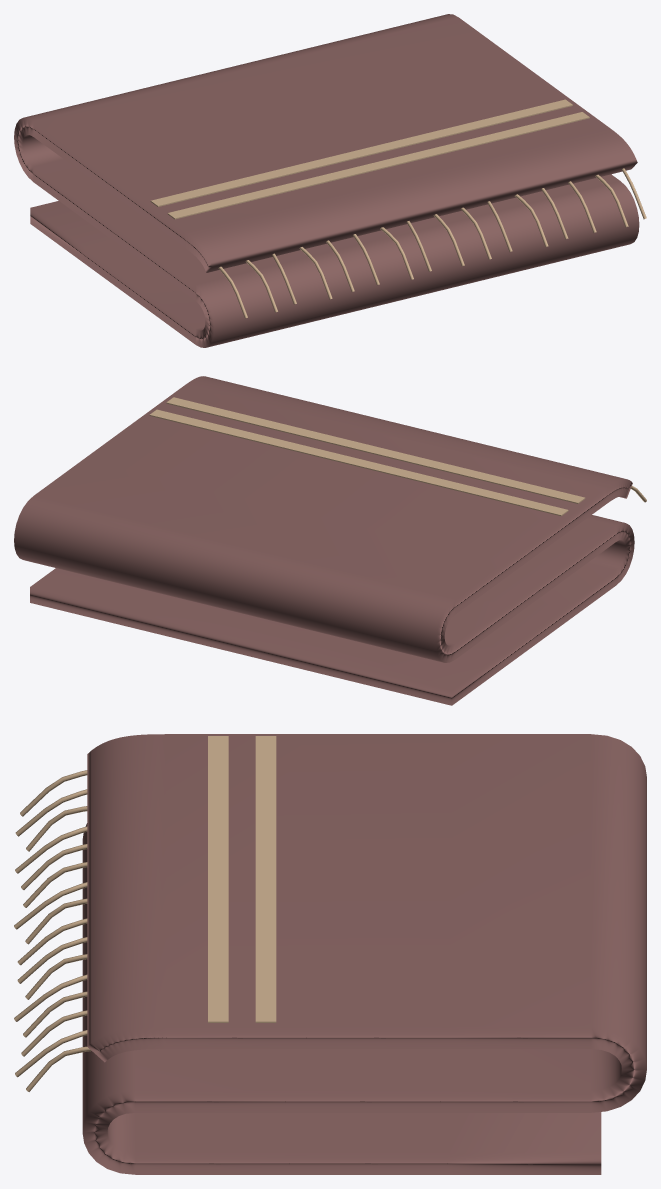
The picture shows the model from 3 angles, top to bottom: view 1: azimuth 30°, elevation 25°; view 2: azimuth 150°, elevation 25°; view 3: azimuth 270°, elevation 25°; orthographic projection. The views are drawn at different scales.
Parts seen in each view (by area): view 1: throw-folded-ribbon, throw-woven-stripes, throw-fringe; view 2: throw-folded-ribbon, throw-woven-stripes; view 3: throw-folded-ribbon, throw-woven-stripes, throw-fringe.
Part boxes in pixels (x1,y1,x2,y2): throw-folded-ribbon: (14, 14, 639, 347); throw-woven-stripes: (150, 99, 589, 219); throw-fringe: (218, 168, 646, 318); throw-folded-ribbon: (14, 376, 634, 705); throw-woven-stripes: (149, 397, 585, 516); throw-folded-ribbon: (82, 734, 646, 1174); throw-woven-stripes: (208, 736, 276, 1022); throw-fringe: (14, 770, 91, 1091).
Size of the model in its own units: 0.334 by 0.0798 by 0.3056.
